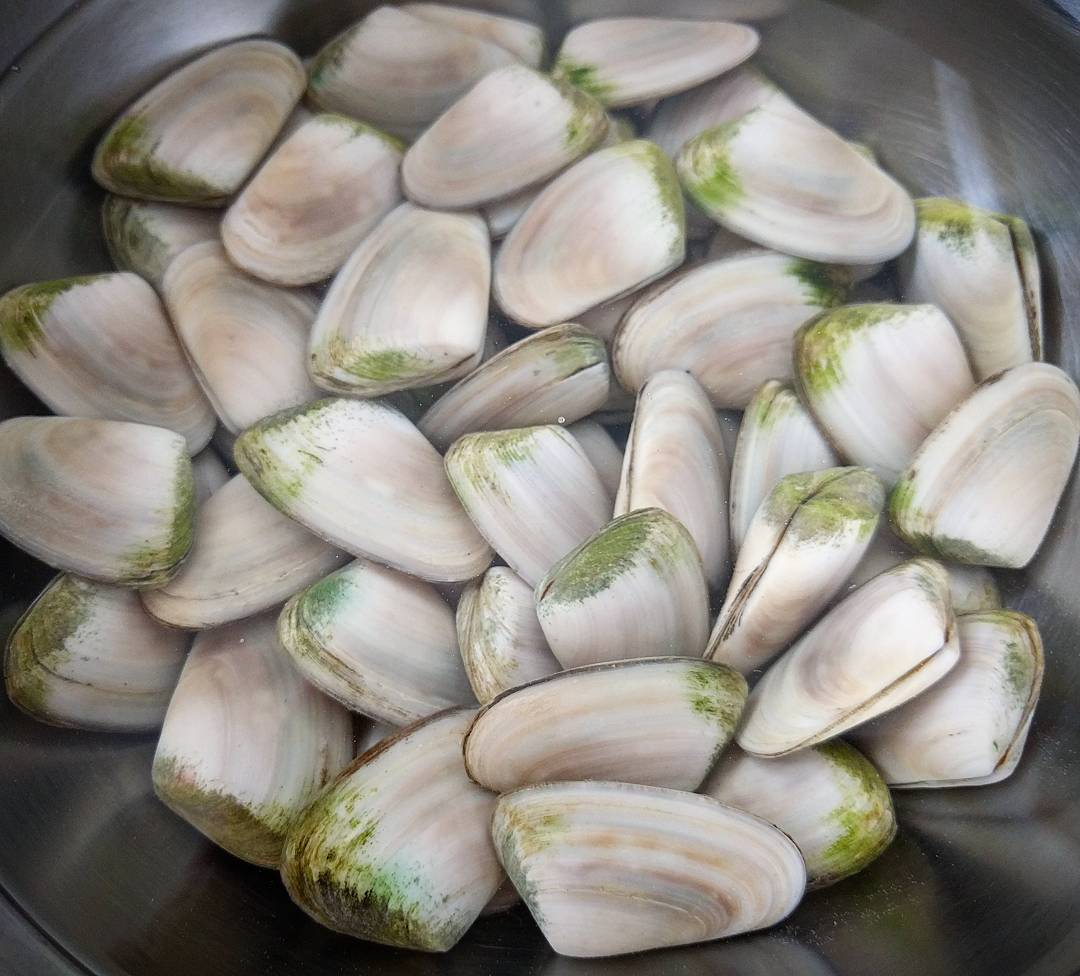tuatua: (486, 777, 809, 957), (269, 704, 500, 954), (152, 616, 354, 869), (228, 395, 493, 587), (747, 552, 966, 768), (674, 91, 922, 271), (461, 652, 756, 795), (881, 357, 1072, 575), (297, 192, 493, 401), (4, 257, 215, 446), (87, 34, 309, 207), (487, 129, 683, 320), (219, 107, 416, 289), (709, 463, 886, 665), (861, 604, 1049, 793), (128, 469, 333, 639), (1, 402, 192, 582), (609, 242, 820, 397), (272, 556, 459, 727), (156, 234, 314, 436), (401, 61, 609, 213), (610, 361, 741, 592), (792, 300, 970, 470), (6, 564, 172, 738), (534, 500, 708, 664), (899, 195, 1052, 380), (302, 6, 519, 129), (443, 425, 605, 580), (411, 314, 605, 441), (727, 377, 837, 566), (551, 14, 765, 105)
